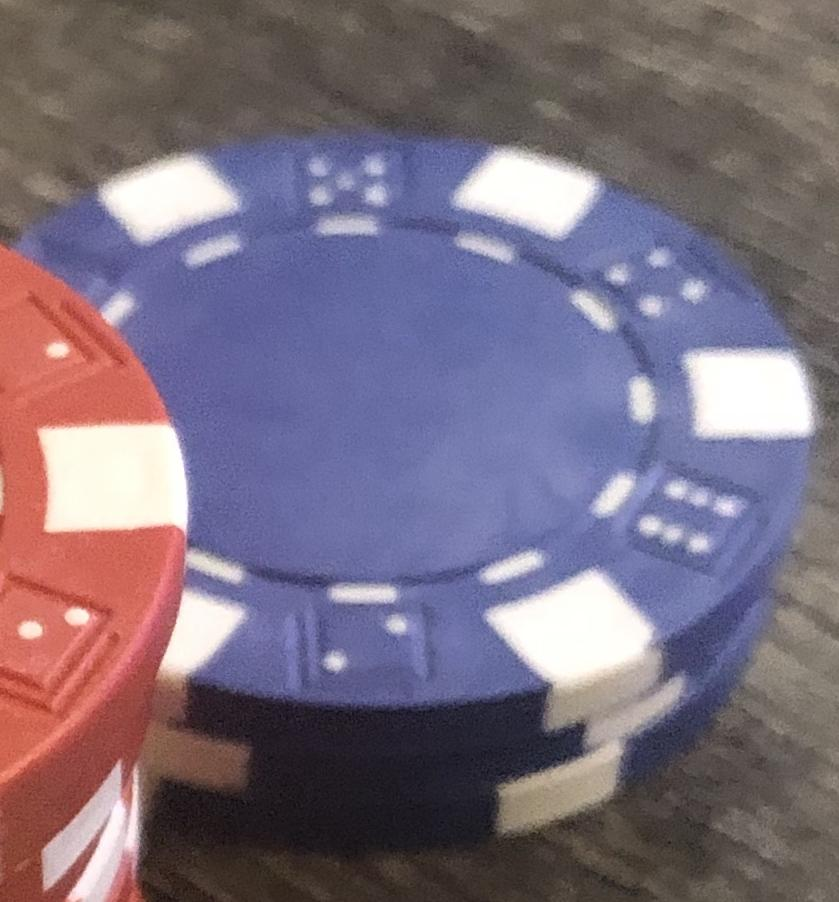Chip: (1, 1, 839, 902)
